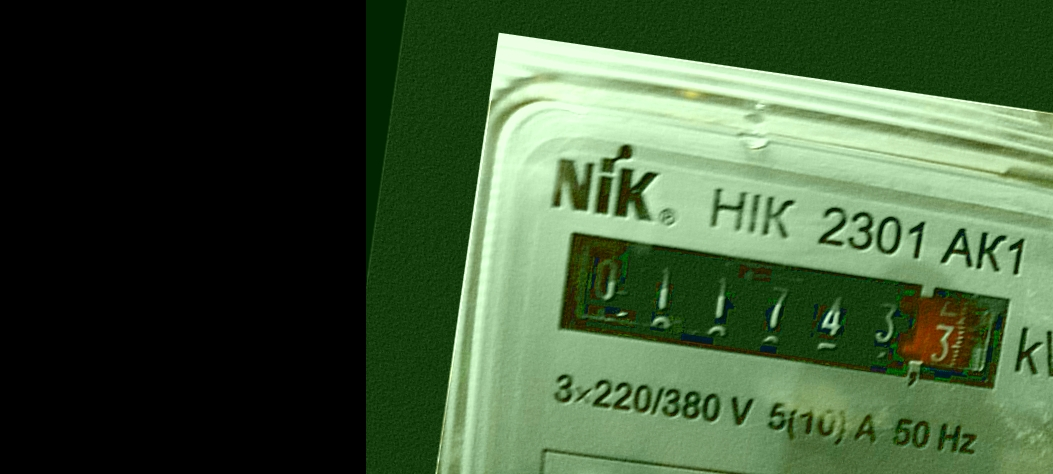0: (589, 254, 625, 305)
1: (708, 272, 736, 323), (654, 264, 677, 314)
3: (870, 297, 905, 348), (928, 320, 958, 367)
4: (817, 289, 851, 340)
7: (763, 282, 794, 333)
screen: (542, 220, 1020, 404)
